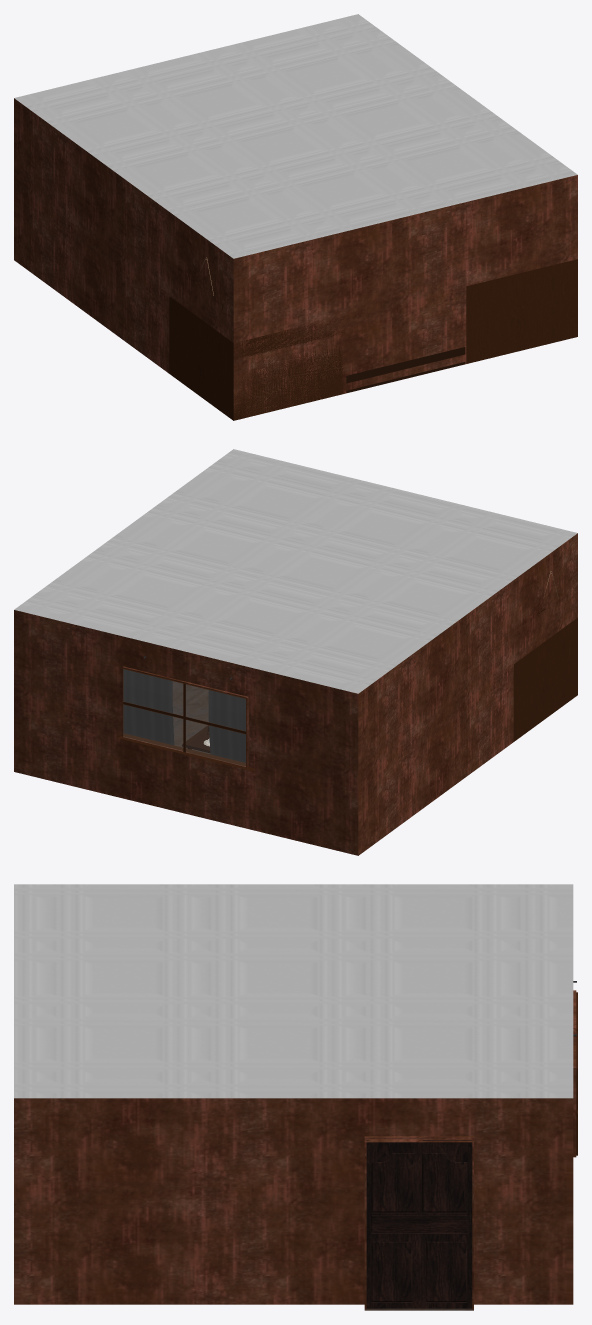
Rendered from vintage_living_room.fbx.
3 views of the same model, one above another, from view 1: azimuth 30°, elevation 25°; view 2: azimuth 150°, elevation 25°; view 3: azimuth 270°, elevation 25° (orthographic). The views are drawn at different scales.
Parts seen in each view (by area): view 1: vintage_living_room; view 2: vintage_living_room; view 3: vintage_living_room.
Part boxes in pixels (x1=…): vintage_living_room: x1=14, y1=14, x2=577, y2=420; vintage_living_room: x1=14, y1=449, x2=577, y2=855; vintage_living_room: x1=14, y1=884, x2=577, y2=1310.
Bounding box in the file's own units: 572 × 250 × 619.
Materials: 5 (2 with a texture image).
